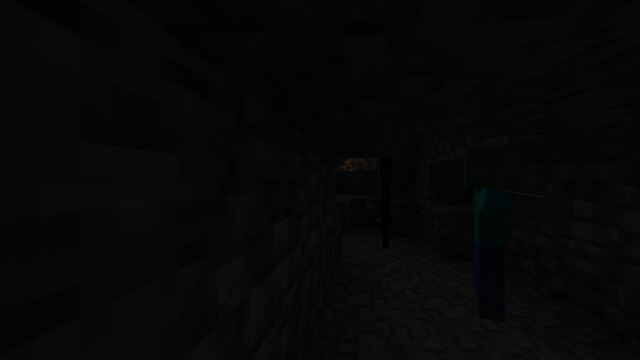endermens: (373, 156, 400, 249)
zombies: (453, 150, 529, 326)
